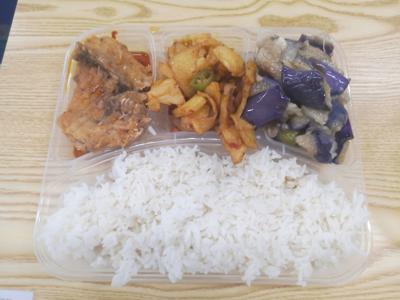rice: (53, 154, 367, 279)
sqz: (252, 37, 362, 163)
